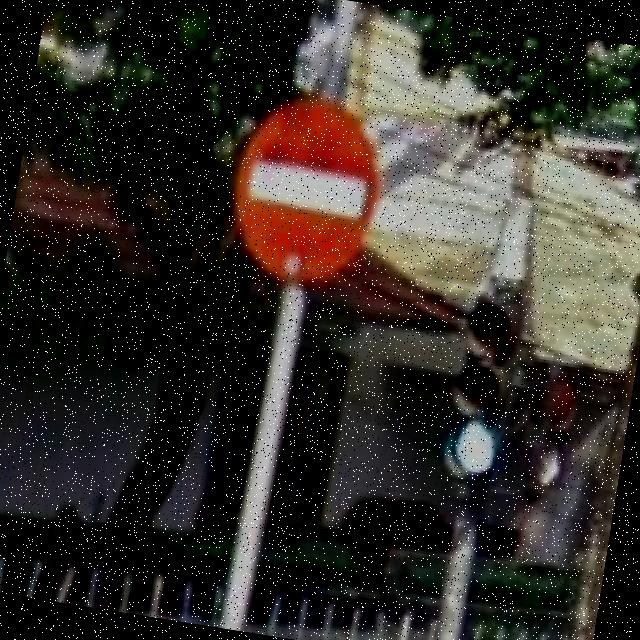Zakaz wjazdu: (223, 92, 393, 290)
